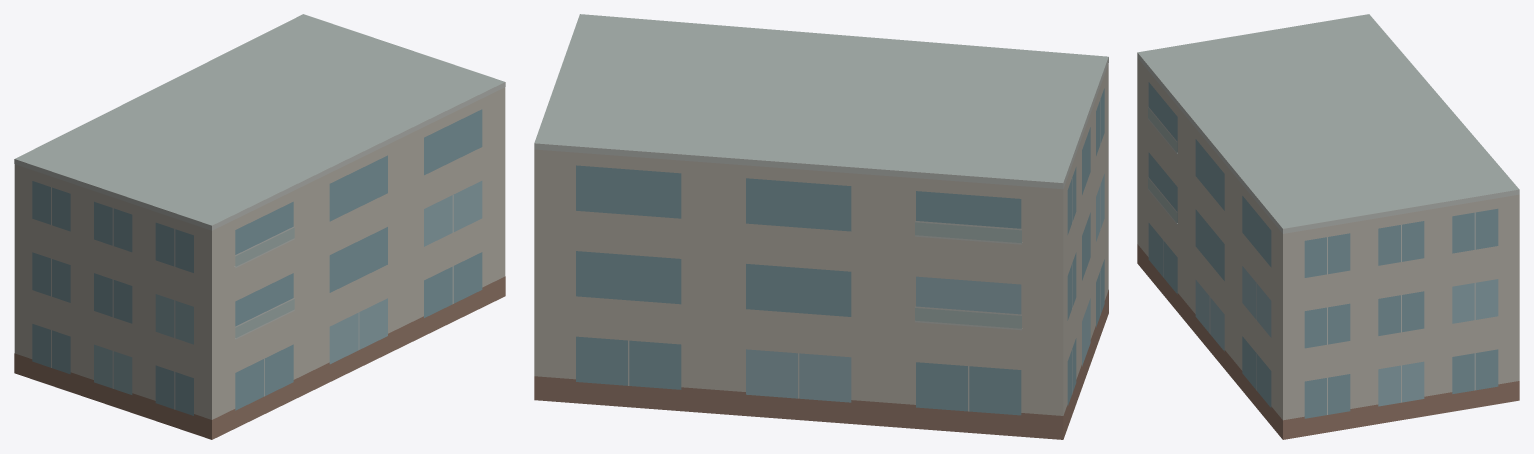
Rendered from survey-upis-32837827.glb.
3 renders of one model, left to right at view 1: azimuth 30°, elevation 25°; view 2: azimuth 150°, elevation 25°; view 3: azimuth 270°, elevation 25°, orthographic. The views are drawn at different scales.
Visible parts, largest first — view 1: survey-upis-32837827.tmp; view 2: survey-upis-32837827.tmp; view 3: survey-upis-32837827.tmp.
Part boxes in pixels (bbox=[...]): survey-upis-32837827.tmp: bbox=[14, 14, 505, 439]; survey-upis-32837827.tmp: bbox=[534, 14, 1108, 439]; survey-upis-32837827.tmp: bbox=[1137, 14, 1519, 439].
Bounding box in the file's own units: 22.29 × 10.2 × 16.76.
